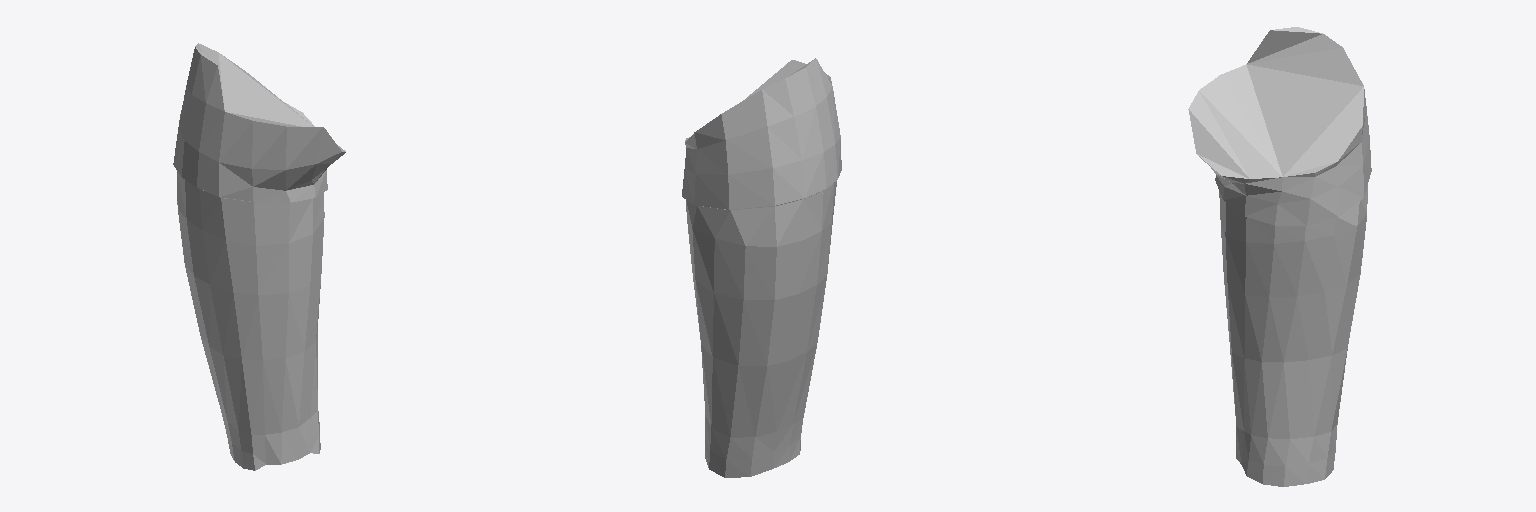
The model's file is hutao_muslo_izq.obj.
3 views of the same model, side by side, from view 1: azimuth 30°, elevation 25°; view 2: azimuth 150°, elevation 25°; view 3: azimuth 270°, elevation 25° (orthographic).
Visible parts, largest first — view 1: 胡桃_mesh_胡桃.004; view 2: 胡桃_mesh_胡桃.004; view 3: 胡桃_mesh_胡桃.004.
Part boxes in pixels (bbox=[...]): 胡桃_mesh_胡桃.004: bbox=[173, 43, 345, 470]; 胡桃_mesh_胡桃.004: bbox=[682, 58, 841, 477]; 胡桃_mesh_胡桃.004: bbox=[1188, 27, 1371, 486].
Bounding box in the file's own units: 1.76 × 5.23 × 2.1.